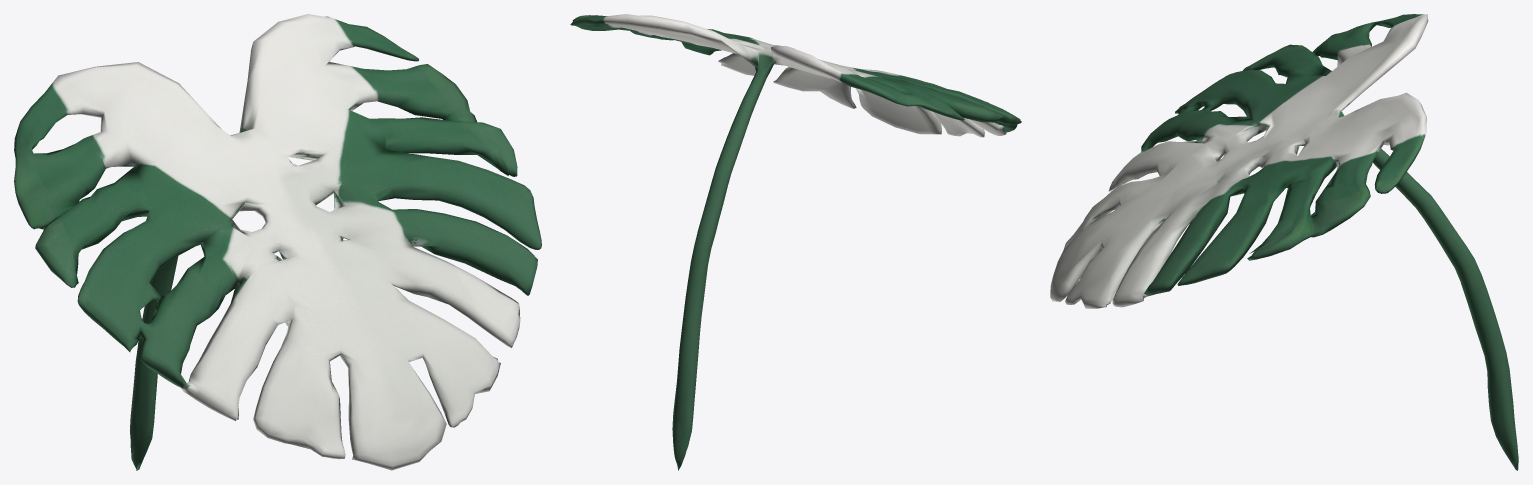
Rendered from mon_halfmoon_greenwhite.glb.
The picture shows the model from 3 angles, left to right: view 1: azimuth 30°, elevation 25°; view 2: azimuth 150°, elevation 25°; view 3: azimuth 270°, elevation 25°; orthographic projection. The views are drawn at different scales.
Size of the model in its own units: 1.99 by 1.91 by 2.
1 material, 1 textured.
